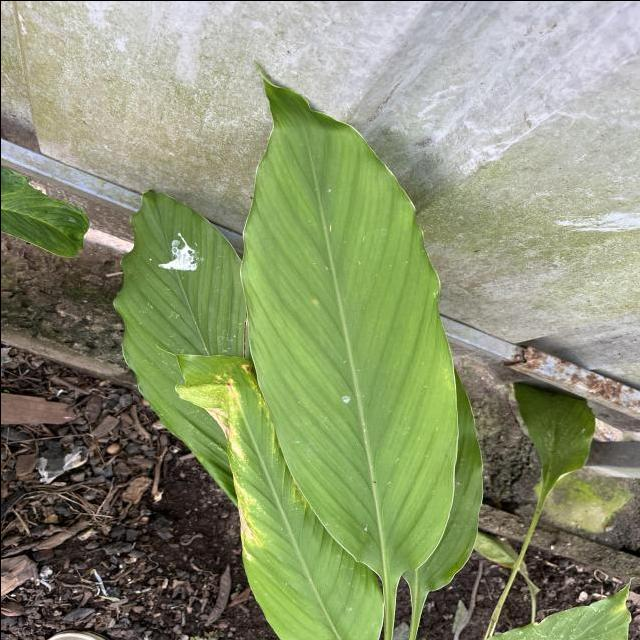Curcuma longa: (234, 54, 460, 582), (110, 185, 240, 510)
